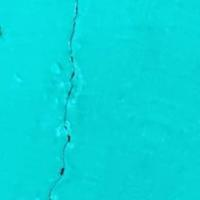crack: (50, 0, 101, 198)
